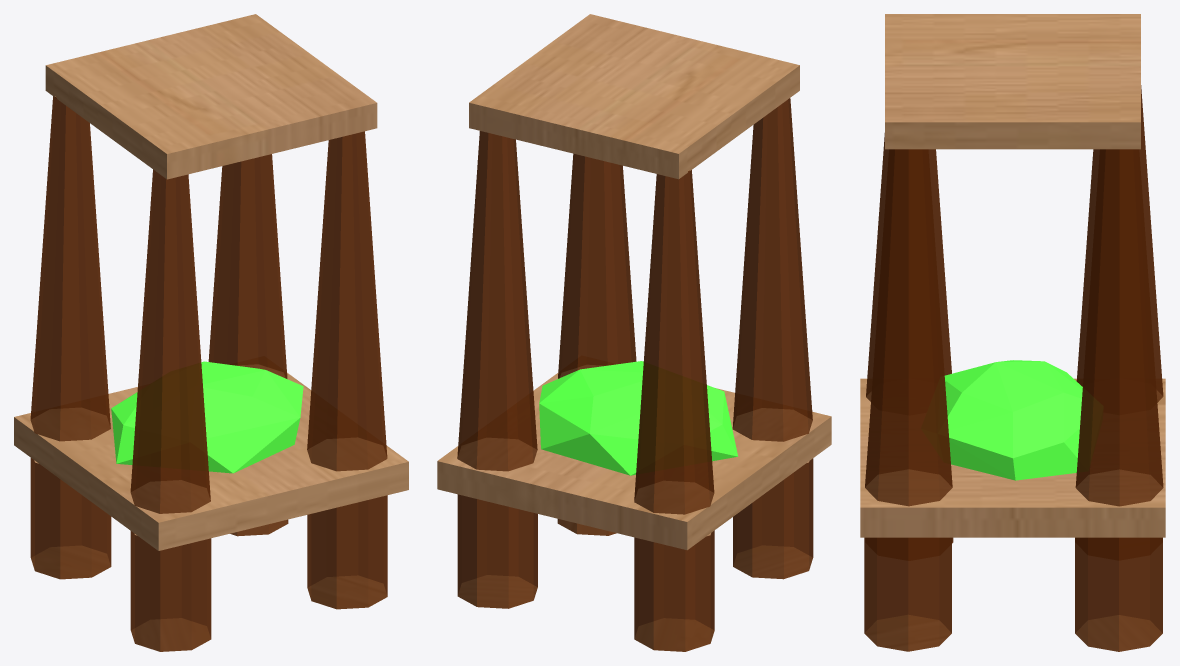
Rendered from Crusher.fbx.
3 views of the same model, side by side, from view 1: azimuth 30°, elevation 25°; view 2: azimuth 150°, elevation 25°; view 3: azimuth 270°, elevation 25° (orthographic). The views are drawn at different scales.
Visible parts, largest first — view 1: Cube, Cube.001; view 2: Cube, Cube.001; view 3: Cube, Cube.001.
Part boxes in pixels (x1,y1,x2,y2): Cube: [14, 14, 408, 651]; Cube.001: [111, 361, 303, 473]; Cube: [437, 14, 831, 651]; Cube.001: [539, 361, 737, 475]; Cube: [860, 14, 1165, 651]; Cube.001: [944, 360, 1082, 480].
Size of the model in its own units: 698 by 1307 by 695.
